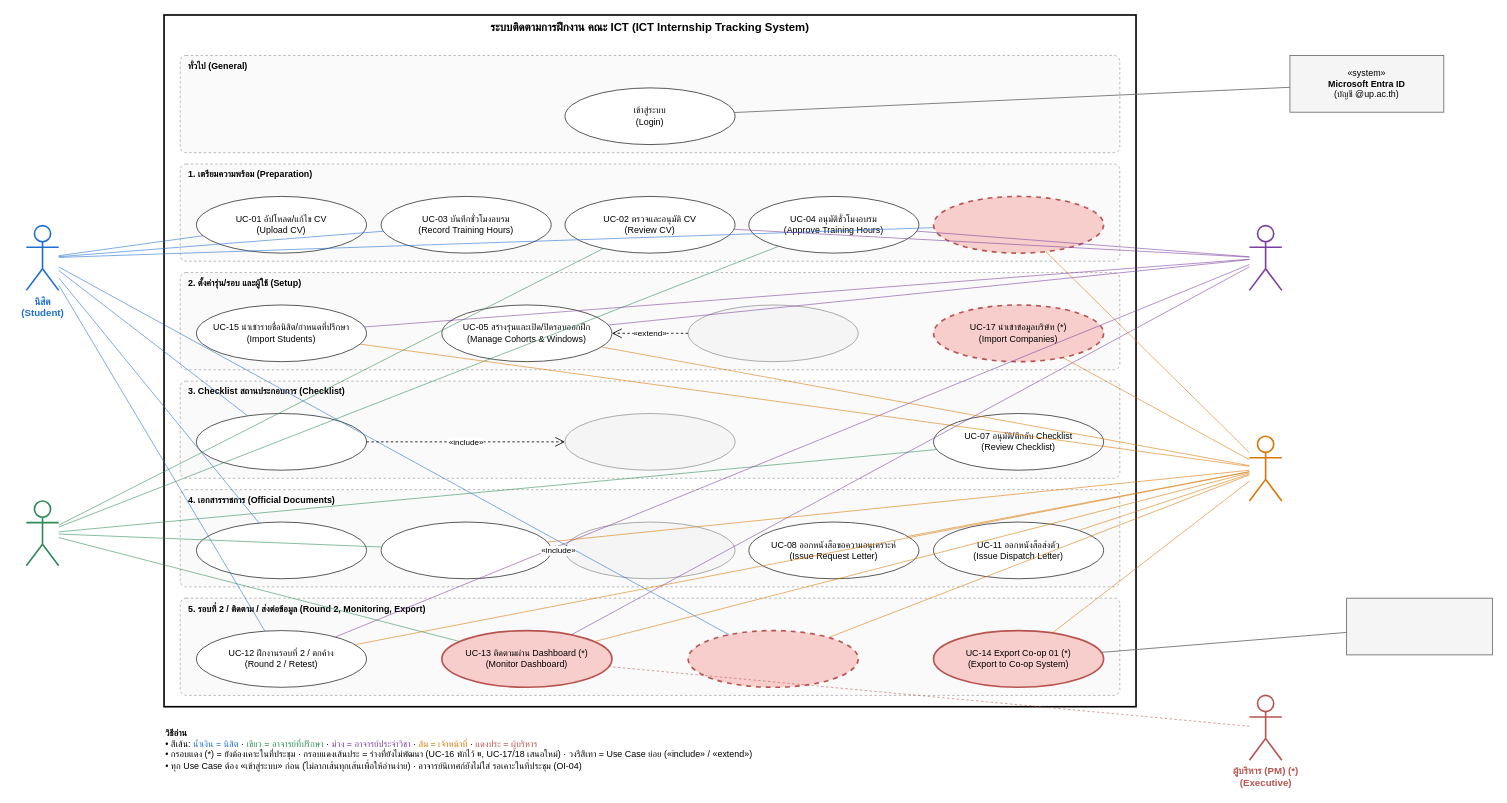
The diagram is 1507 pixels wide and 803 high, and some of its shapes have lost their labels. The centre of each missing label's shape, as x and y in pixels:
"UC-06 ยื่น Checklist สถานประกอบการ (Submit Checklist)" goes at point 281,441.
"UC-09 อัปโหลดแบบตอบรับ (Upload Acceptance Form)" goes at point 281,550.
"UC-10 ตรวจ/ยืนยันแบบตอบรับ (Verify Acceptance Form)" goes at point 465,550.
"UC-16 ลงทะเบียนอบรม/สแกน QR (*) (Training Check-in) ⏸" goes at point 1018,224.
"UC-18 เรียกตัวกลับ / ยุติการฝึก (*) (Recall / Terminate)" goes at point 773,658.
"«system» ระบบ Co-op กลาง (University Co-op System)" goes at point 1419,626.
"ผูกรอบออกฝึกอัตโนมัติ (Auto-assign Window)" goes at point 649,441.
"วิเคราะห์แบบตอบรับอัตโนมัติ (OMR)" goes at point 649,550.
"อาจารย์ที่ปรึกษา (Advisor)" goes at point 42,533.
"อาจารย์ประจำวิชา (Course Admin)" goes at point 1265,257.
"เจ้าหน้าที่ฝ่ายฝึกงาน (Staff)" goes at point 1265,468.
"เปิดต่อพิเศษ (Extend Window)" goes at point 772,333.
